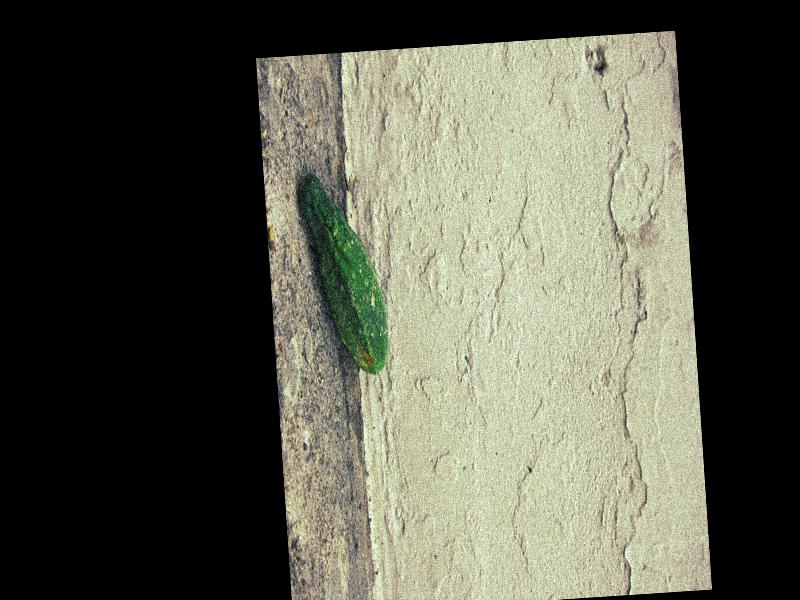Cucumber: (298, 171, 390, 378)
